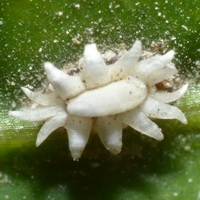insect: (9, 40, 187, 159)
